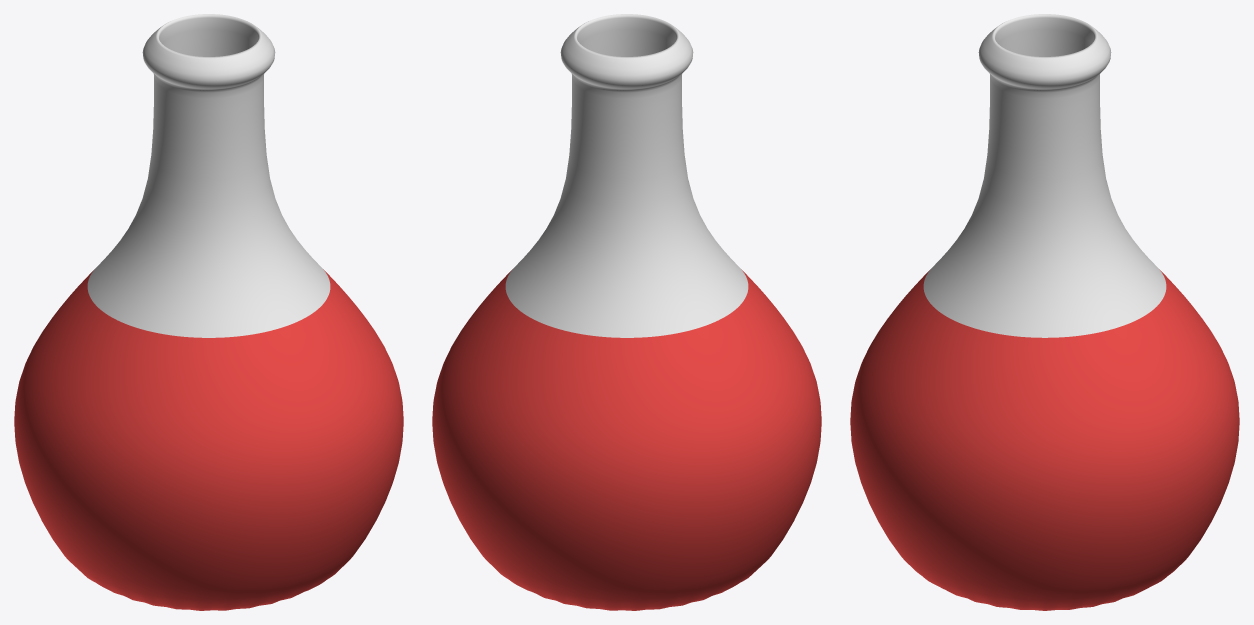
Rendered from HPPotion.fbx.
3 views of the same model, side by side, from view 1: azimuth 30°, elevation 25°; view 2: azimuth 150°, elevation 25°; view 3: azimuth 270°, elevation 25° (orthographic).
Parts seen in each view (by area): view 1: Circle; view 2: Circle; view 3: Circle.
Boxes of the visible parts, x1,y1,x2,y2 form: Circle: (14,14,403,610); Circle: (432,14,821,610); Circle: (850,14,1239,610).
Bounding box in the file's own units: 321 × 491 × 321.
